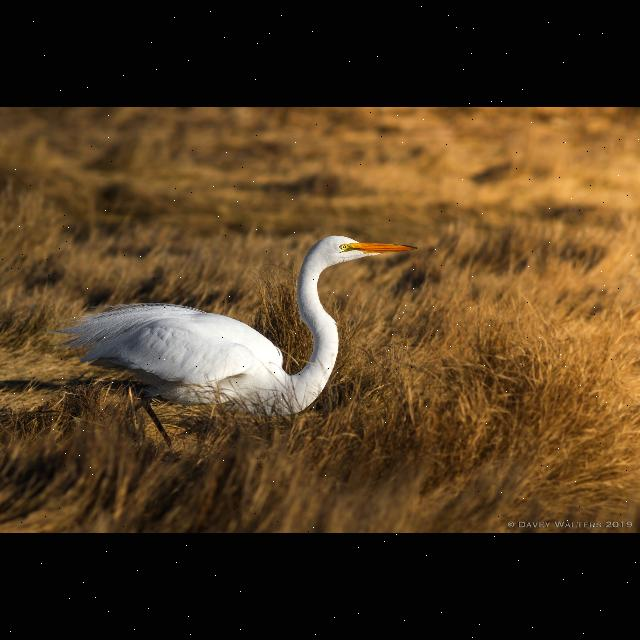egret: (63, 216, 419, 418)
